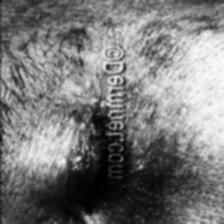Non-Cancerous Skin Condition: (63, 29, 101, 80)
